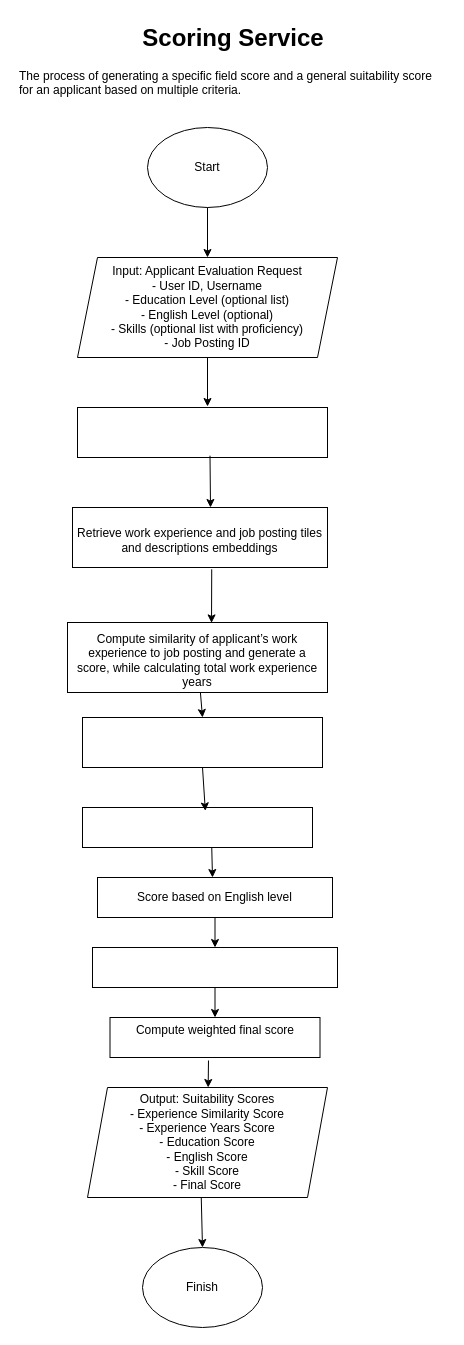
Some shapes in this 464 by 1345 pixel diagram are drawn without their labels. The shapes that lost their labels are listed below. From the top down, each one's centre as x and y in pixels, then its label:
(202,432): Receive applicant information
(202,742): Score based on years of experience
(197,827): Score based on education level
(215,967): Score based on skill match and proficiency
